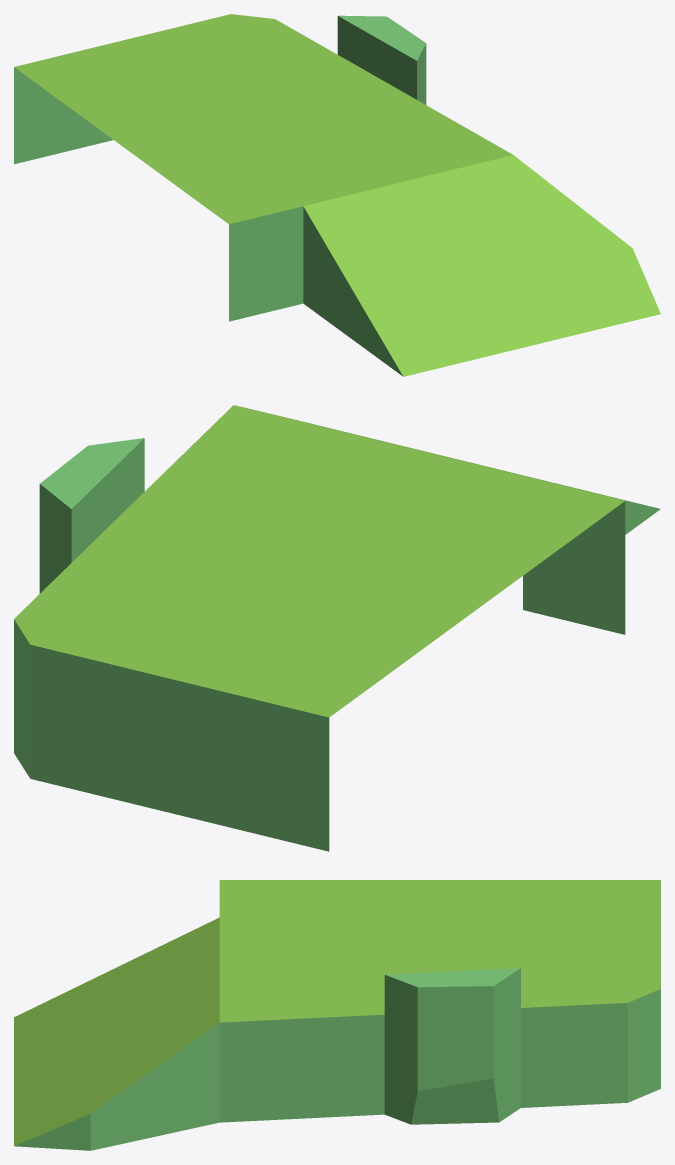
The model's file is x_00_colonn_23_spusk_B2_1_part2_rmstrd.fbx.
3 renders of one model, top to bottom at view 1: azimuth 30°, elevation 25°; view 2: azimuth 150°, elevation 25°; view 3: azimuth 270°, elevation 25°, orthographic. The views are drawn at different scales.
Visible parts, largest first — view 1: x_00_colonn_23_spusk_B2_1_part2_rmstrd1; view 2: x_00_colonn_23_spusk_B2_1_part2_rmstrd1; view 3: x_00_colonn_23_spusk_B2_1_part2_rmstrd1.
Part boxes in pixels (left/top/right/bottom): x_00_colonn_23_spusk_B2_1_part2_rmstrd1: left=14, top=14, right=660, bottom=376; x_00_colonn_23_spusk_B2_1_part2_rmstrd1: left=14, top=405, right=660, bottom=851; x_00_colonn_23_spusk_B2_1_part2_rmstrd1: left=14, top=880, right=660, bottom=1150.
Bounding box in the file's own units: 3.66 × 1.4 × 5.86.
